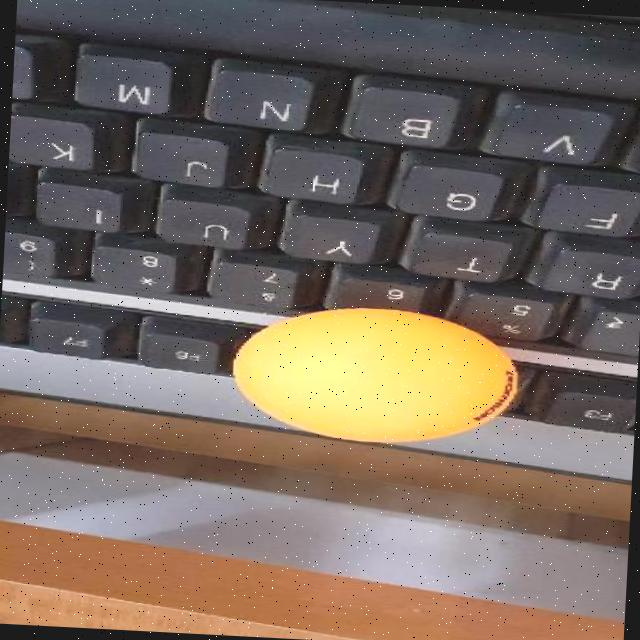ping-pong-ball: (230, 302, 526, 453)
